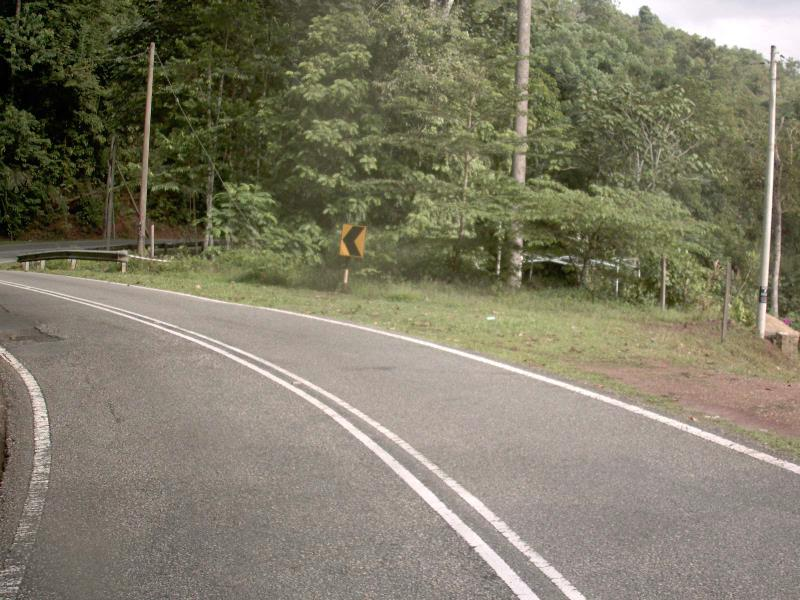traffic_sign: (331, 213, 374, 268)
